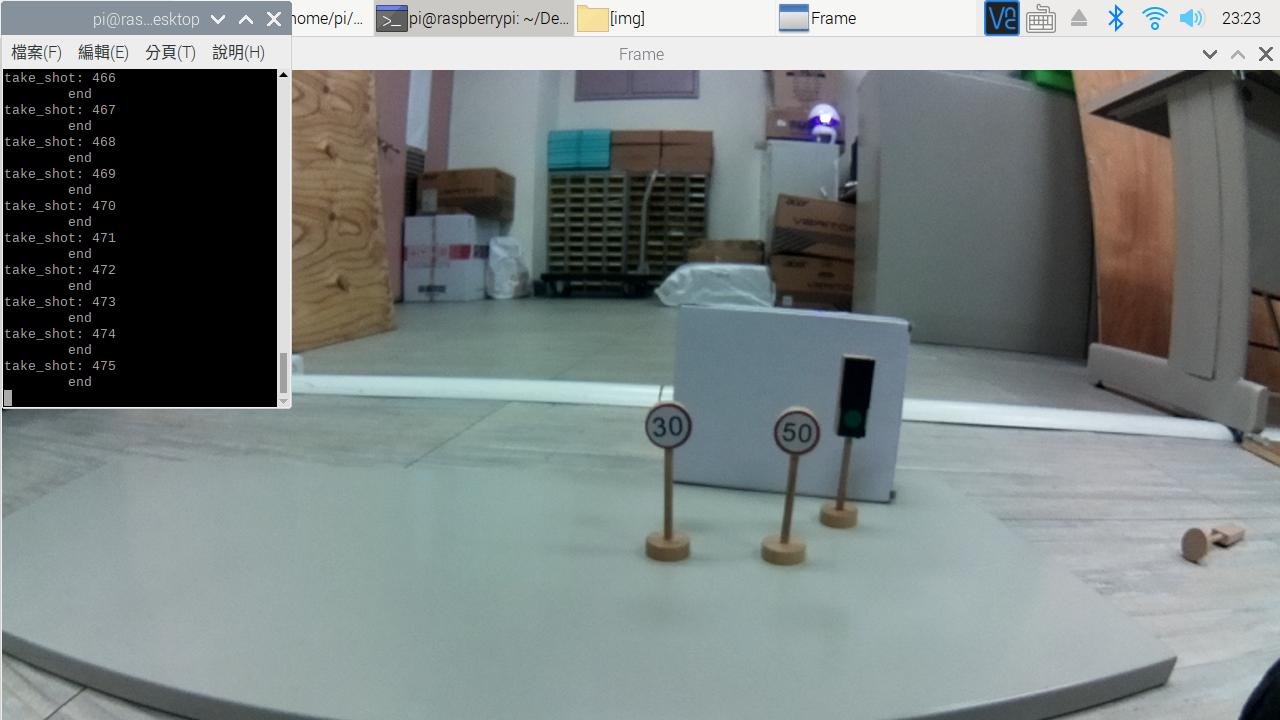Green: (831, 353, 877, 448)
Speed30: (643, 395, 692, 456)
Speed50: (773, 408, 825, 465)
